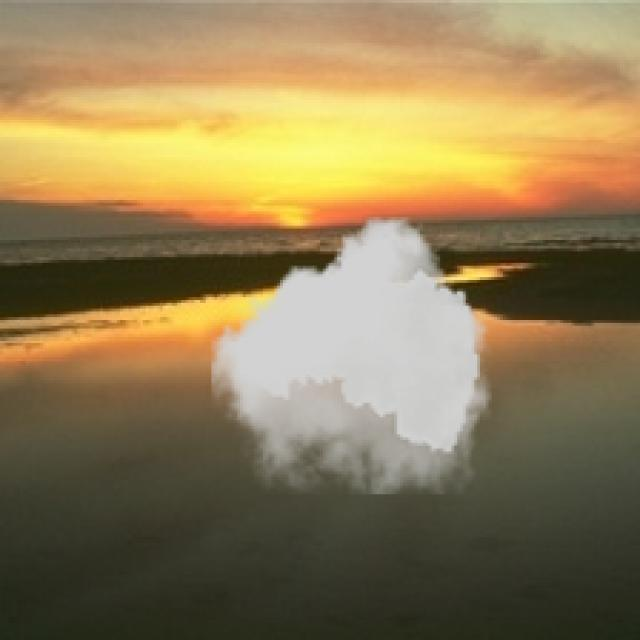smoke: (212, 217, 492, 494)
